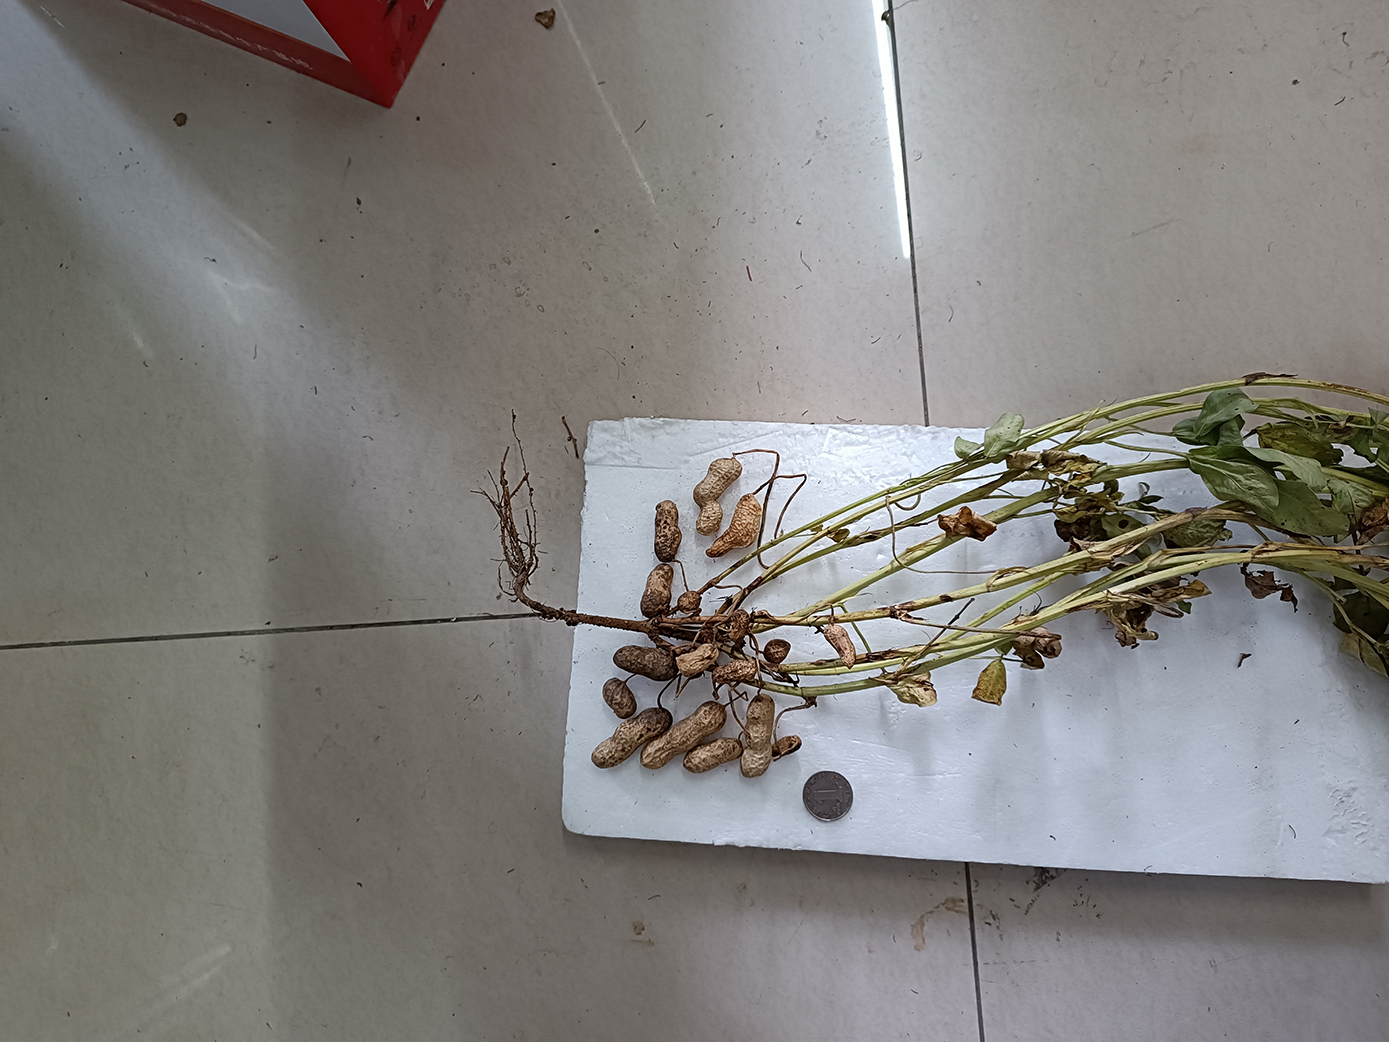h: (641, 701, 725, 771), (591, 708, 672, 769), (693, 458, 742, 535), (705, 494, 759, 557), (742, 694, 775, 778), (684, 738, 744, 773), (640, 563, 674, 620), (1015, 621, 1064, 659), (653, 498, 682, 561), (824, 623, 857, 672), (678, 644, 720, 678), (711, 659, 759, 685), (764, 637, 791, 664), (771, 736, 803, 756), (678, 591, 701, 610)
l: (612, 645, 679, 681), (602, 678, 637, 720)
